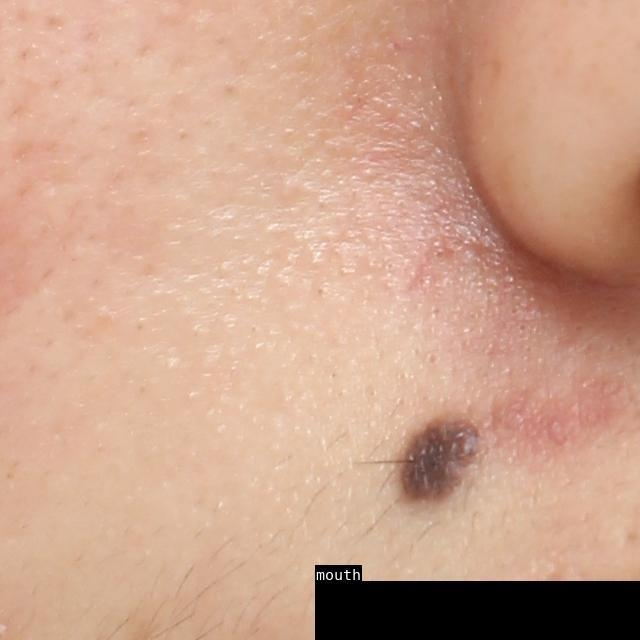nevus: (387, 410, 487, 512)
